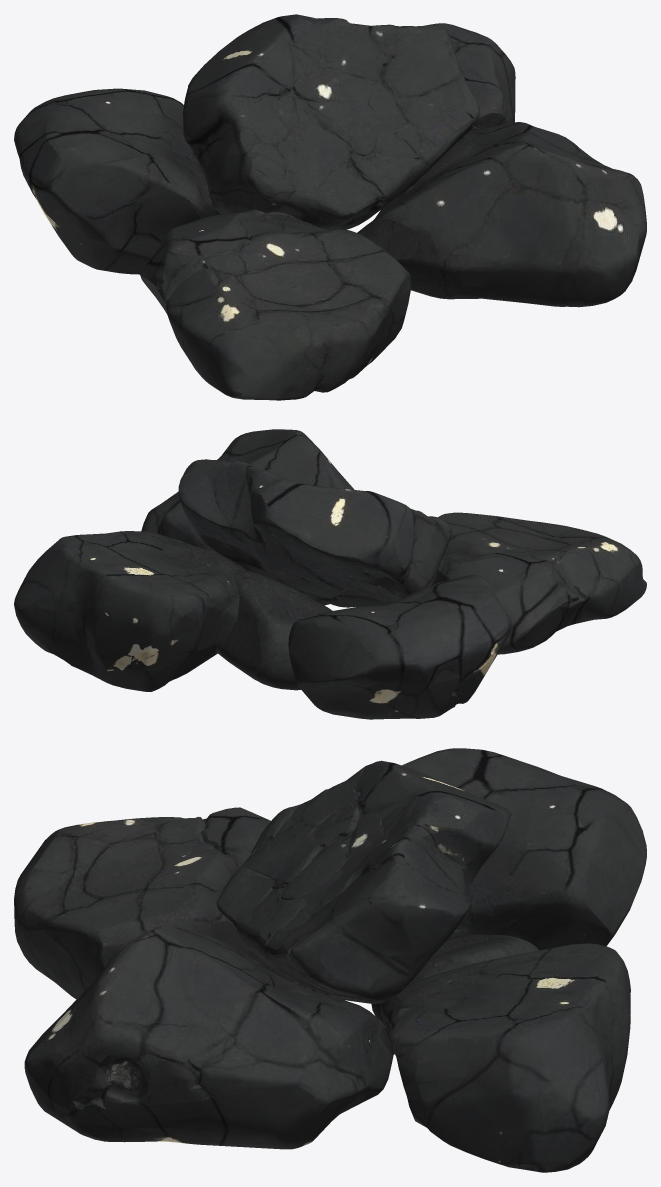
The model's file is min-flint-final.glb.
3 renders of one model, top to bottom at view 1: azimuth 30°, elevation 25°; view 2: azimuth 150°, elevation 25°; view 3: azimuth 270°, elevation 25°, orthographic. The views are drawn at different scales.
Visible parts, largest first — view 1: Mesh_0; view 2: Mesh_0; view 3: Mesh_0.
Part boxes in pixels (left/top/right/bottom): Mesh_0: left=14, top=14, right=646, bottom=400; Mesh_0: left=14, top=429, right=646, bottom=719; Mesh_0: left=14, top=748, right=646, bottom=1172.
Bounding box in the file's own units: 1.2 × 0.5 × 1.09.
1 material, 1 textured.
